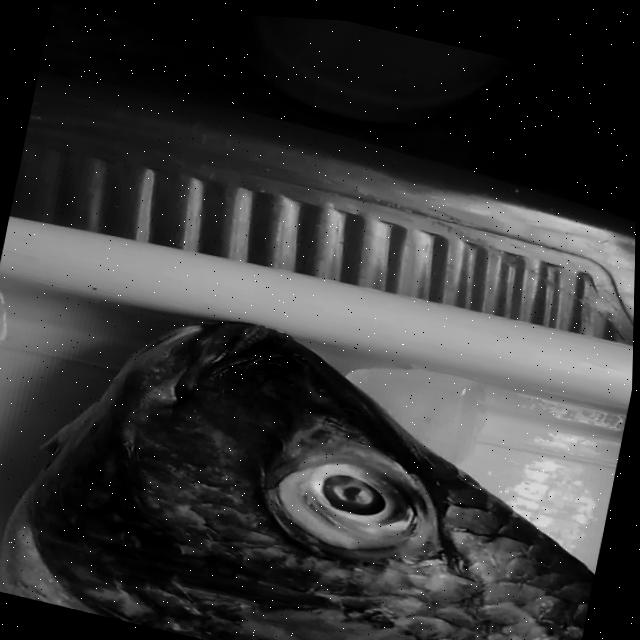Fresh: (210, 397, 509, 599)
